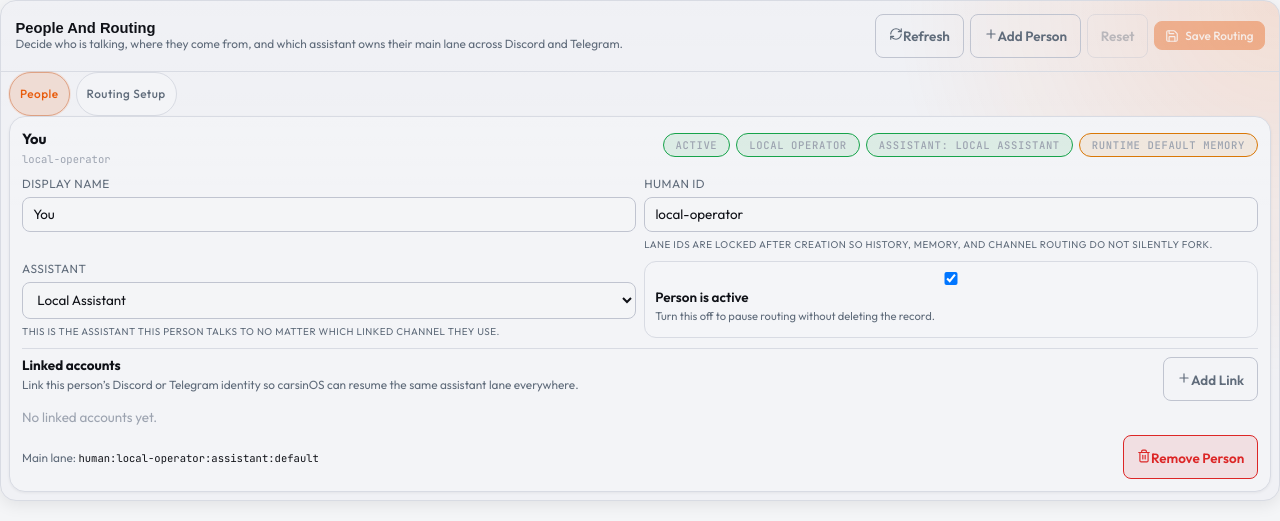
Scenario: PeopleRoutingSection authoritative Directory home › presents the human card with its assignment and memory chips plus the setup view
Click the button "Routing Setup" at {"x": 126, "y": 94}, box top-left (76, 72), bottom-right (177, 116)
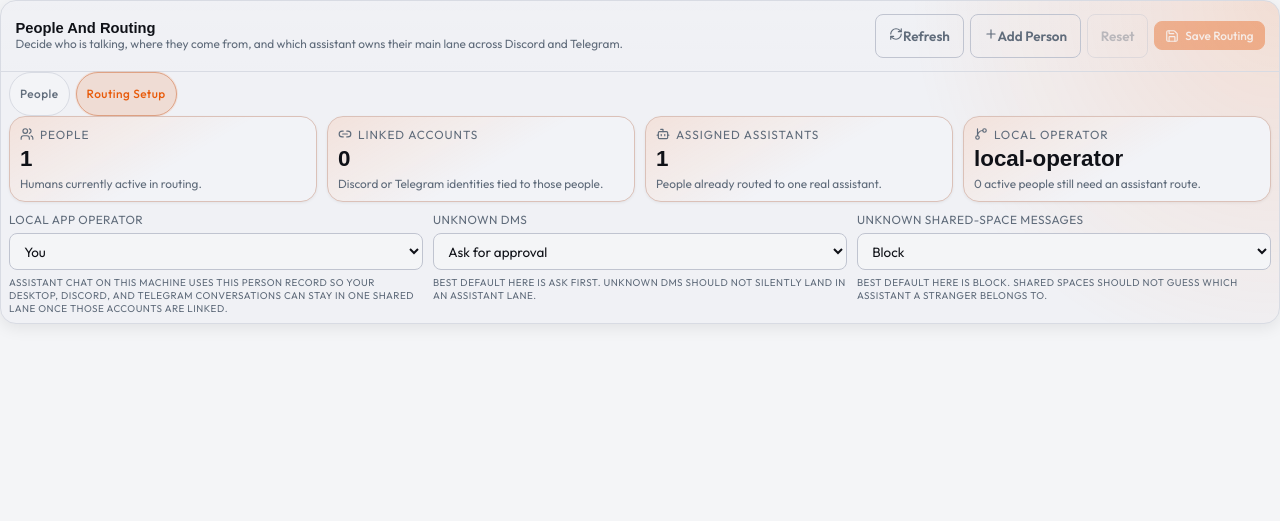
Result: the text "Humans currently active in routing." is shown at top-left (20, 176), bottom-right (202, 191)
Result: the text "Unknown DMs" is shown at top-left (433, 212), bottom-right (527, 227)
Result: the text "Unknown shared-space messages" is shown at top-left (857, 212), bottom-right (1084, 227)
